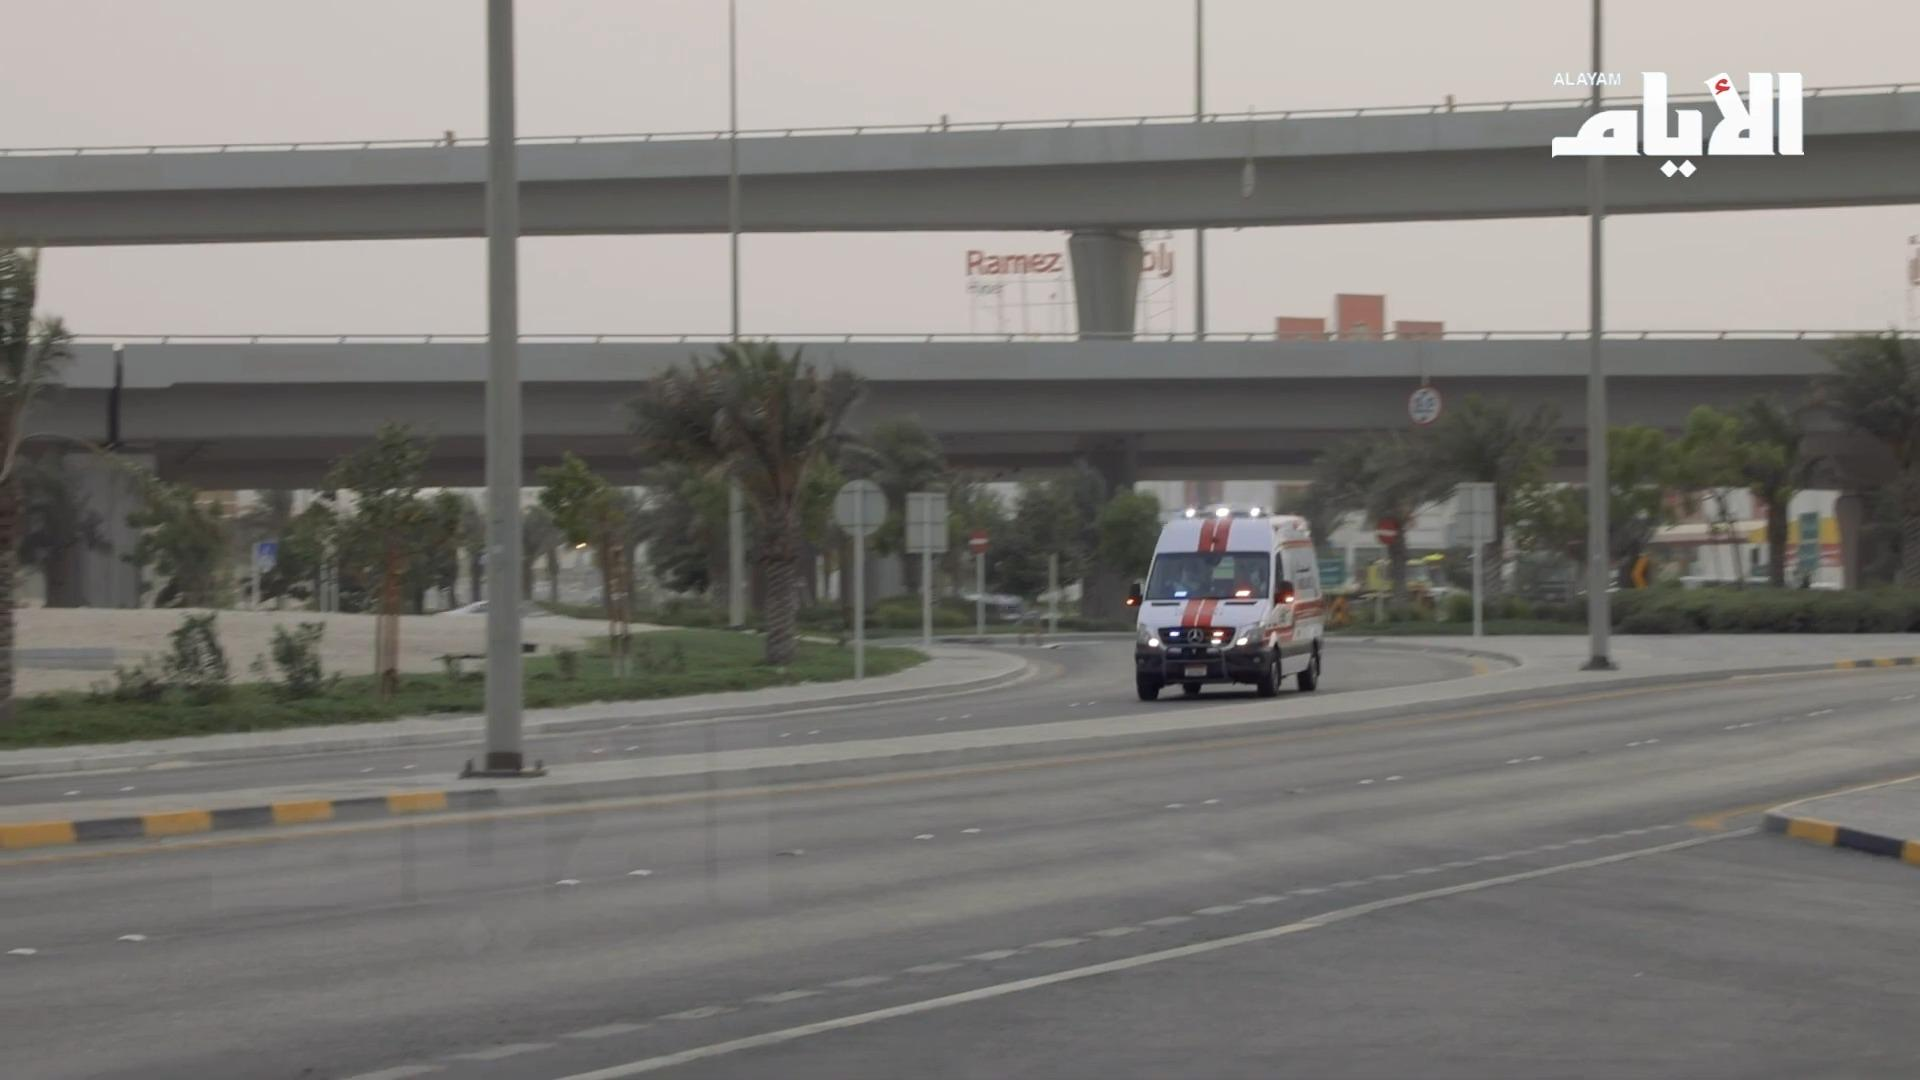ambulance_on: (1126, 502, 1325, 698)
